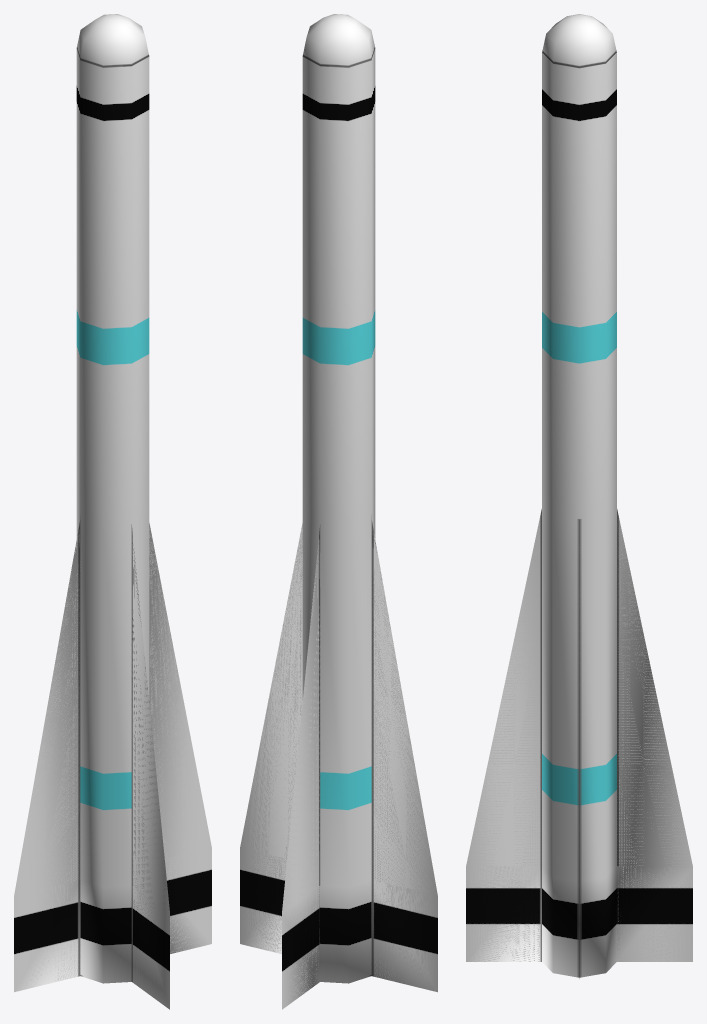
File: missile.fbx
The picture shows the model from 3 angles, left to right: view 1: azimuth 30°, elevation 25°; view 2: azimuth 150°, elevation 25°; view 3: azimuth 270°, elevation 25°; orthographic projection.
Visible parts, largest first — view 1: Cylinder; view 2: Cylinder; view 3: Cylinder.
Boxes of the visible parts, x1=… form: Cylinder: x1=14, y1=14, x2=211, y2=1009; Cylinder: x1=240, y1=14, x2=437, y2=1009; Cylinder: x1=466, y1=14, x2=692, y2=978.
Size of the model in its own units: 19.71 by 90.47 by 19.71.
